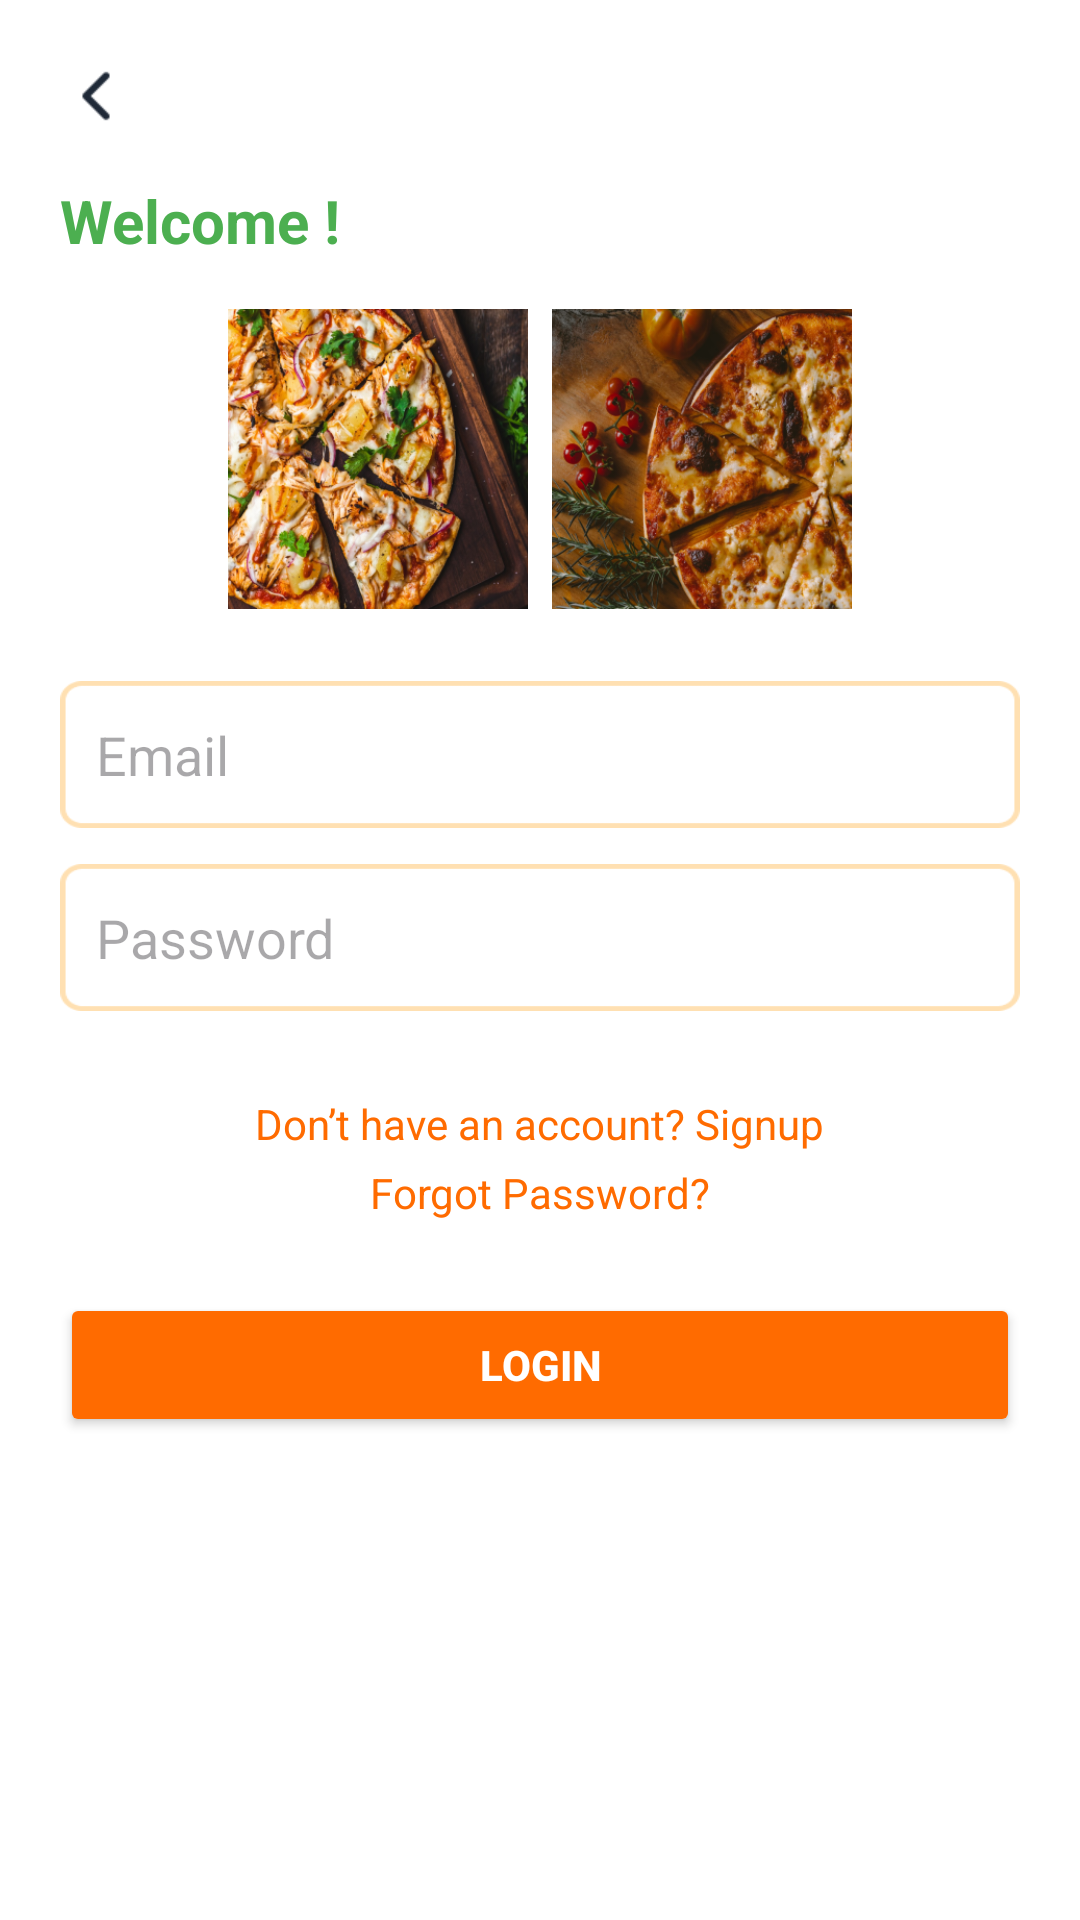

Screen size 1080 x 1920. Icon name, then its box in pixels as (x1, y1, x2, y2):
Back: (82, 72, 110, 121)
pizza: (228, 309, 528, 609), (552, 309, 852, 609)
